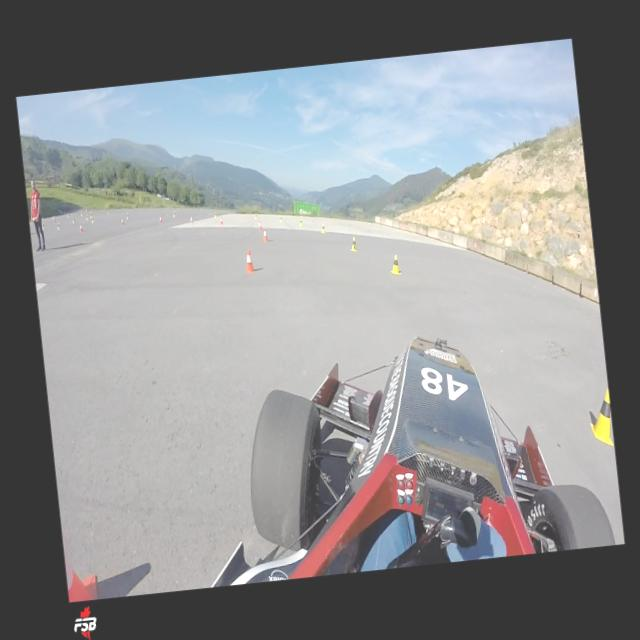orange_cone: (243, 248, 256, 272), (262, 229, 267, 241), (258, 220, 262, 230), (120, 217, 124, 226), (158, 215, 162, 222), (190, 216, 193, 223), (80, 224, 82, 232), (220, 217, 222, 224)
yellow_cone: (586, 386, 614, 447), (388, 253, 401, 276), (348, 235, 357, 252), (320, 222, 325, 232), (56, 222, 60, 230), (254, 212, 258, 219), (298, 218, 302, 225), (90, 216, 94, 222), (278, 216, 282, 222), (172, 210, 175, 217), (125, 213, 128, 219), (214, 212, 216, 218), (72, 218, 74, 224), (86, 214, 88, 220)
